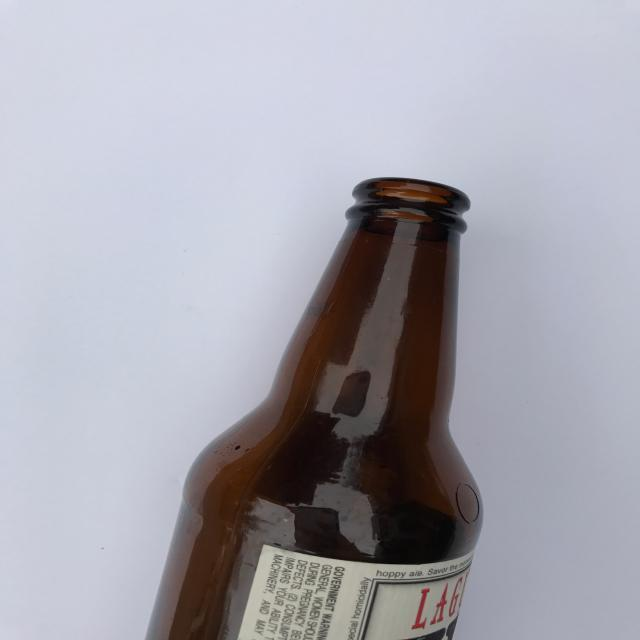glass: (143, 177, 489, 640)
